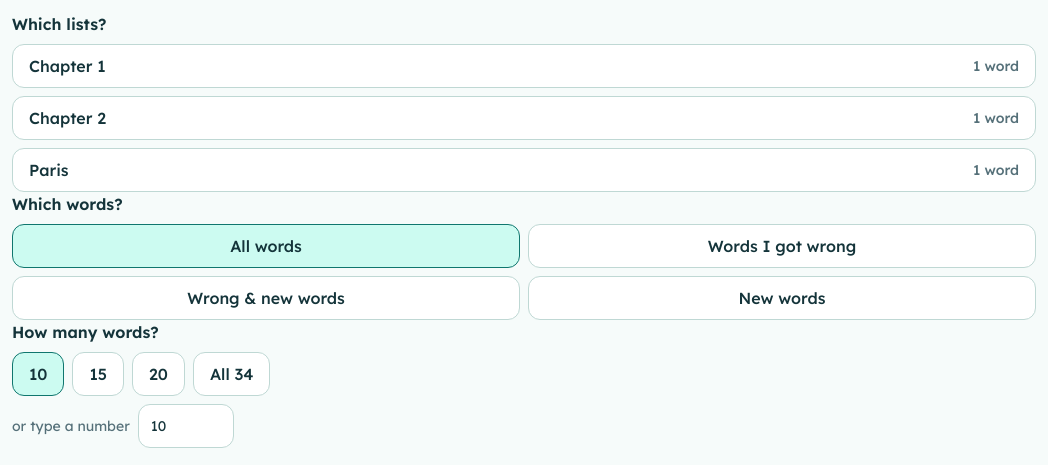
Test: which lists › disables an incompatible list and states its pair as the reason
Click the button "Chapter 1 1 word". click: (67, 66)
box: [12,44,1036,88]
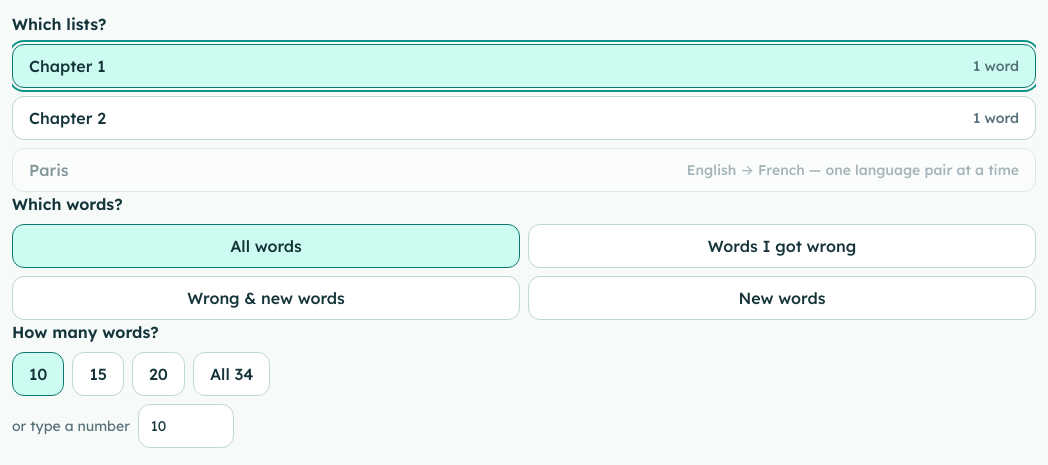
Expected: the button "Paris English → French — one language pair at a time" is disabled, [12,148,1036,192]
Expected: the button "Paris English → French — one language pair at a time" is shown, [12,148,1036,192]
